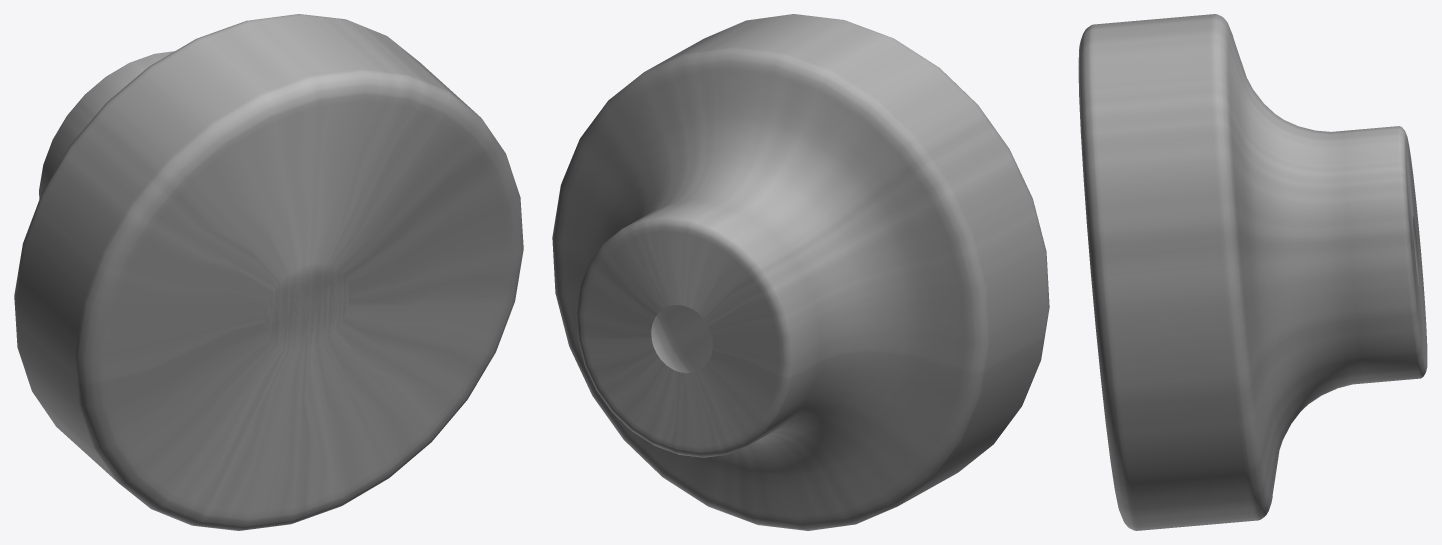
File: palanca_pinball.obj
3 renders of one model, left to right at view 1: azimuth 30°, elevation 25°; view 2: azimuth 150°, elevation 25°; view 3: azimuth 270°, elevation 25°, orthographic. The views are drawn at different scales.
Visible parts, largest first — view 1: ARCHMODELS_47_050_23.001; view 2: ARCHMODELS_47_050_23.001; view 3: ARCHMODELS_47_050_23.001.
Part boxes in pixels (x1,y1,x2,y2): ARCHMODELS_47_050_23.001: (14, 14, 523, 530); ARCHMODELS_47_050_23.001: (552, 14, 1049, 530); ARCHMODELS_47_050_23.001: (1078, 14, 1427, 530).
Bounding box in the file's own units: 0.0365 × 0.0372 × 0.0251.
